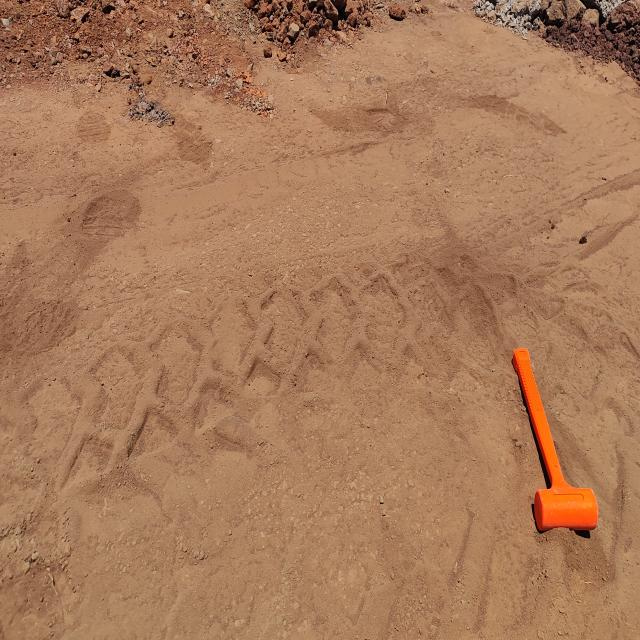Orange_hammer: (511, 346, 598, 534)
